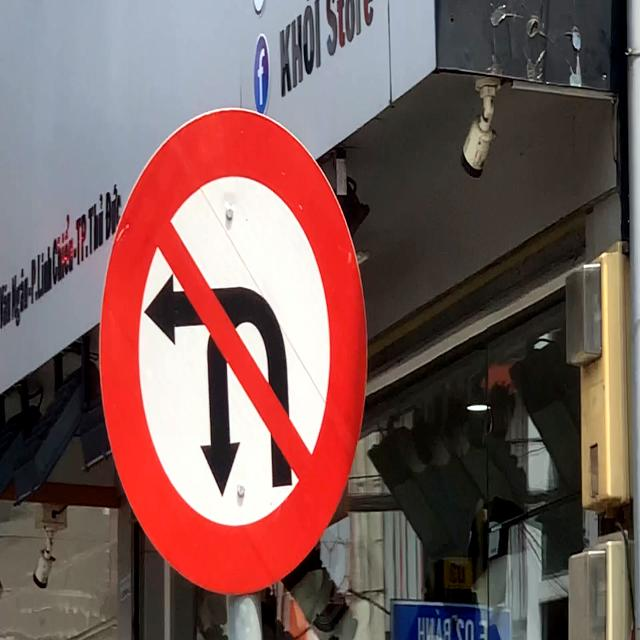P.124c: (96, 105, 370, 600)
